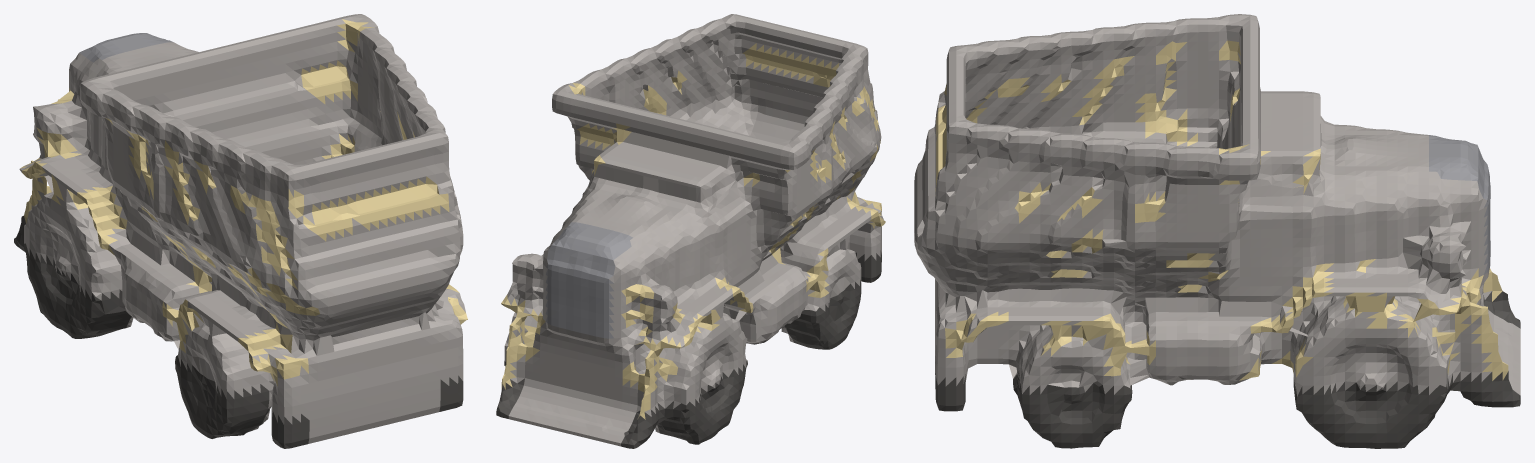
Rendered from unit_dray.glb.
3 renders of one model, left to right at view 1: azimuth 30°, elevation 25°; view 2: azimuth 150°, elevation 25°; view 3: azimuth 270°, elevation 25°, orthographic. The views are drawn at different scales.
Parts seen in each view (by area): view 1: Mesh_0.042; view 2: Mesh_0.042; view 3: Mesh_0.042.
Boxes of the visible parts, x1,y1,x2,y2 form: Mesh_0.042: (14,14,467,448); Mesh_0.042: (496,14,885,448); Mesh_0.042: (914,14,1520,448).
Size of the model in its own units: 1.71 by 1.71 by 3.
